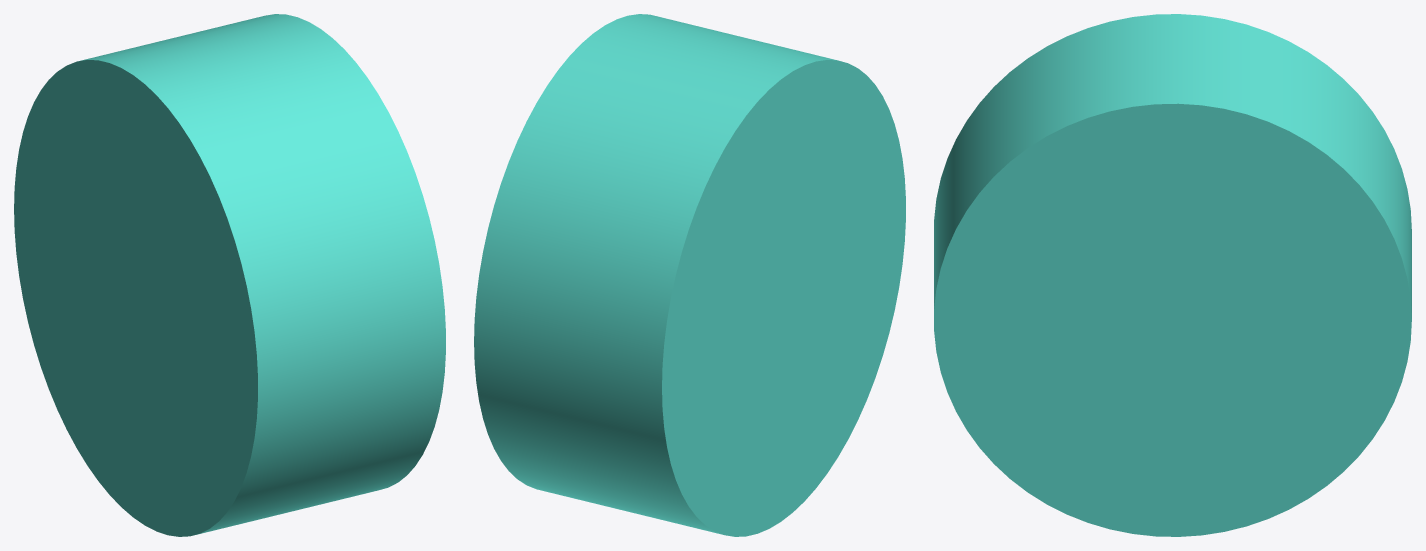
The model's file is Fillament.glb.
The picture shows the model from 3 angles, left to right: view 1: azimuth 30°, elevation 25°; view 2: azimuth 150°, elevation 25°; view 3: azimuth 270°, elevation 25°; orthographic projection. The views are drawn at different scales.
Visible parts, largest first — view 1: PLA.001; view 2: PLA.001; view 3: PLA.001.
Part boxes in pixels (x1,y1,x2,y2): PLA.001: (14, 14, 445, 536); PLA.001: (474, 14, 905, 536); PLA.001: (934, 14, 1411, 536).
Size of the model in its own units: 2 by 4.5 by 4.5.
